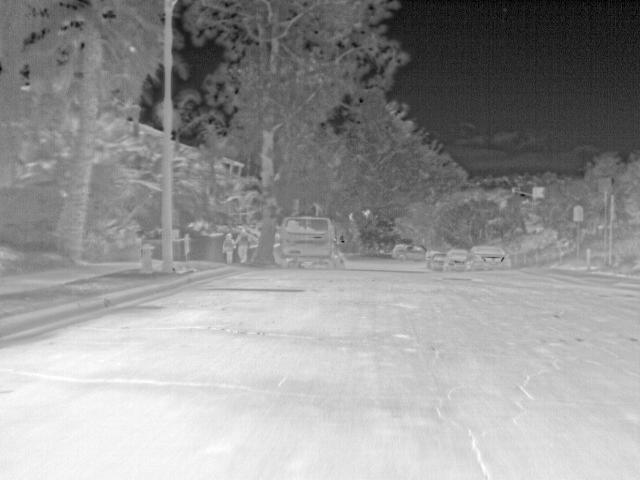car: (276, 215, 338, 268), (465, 245, 509, 272), (389, 243, 431, 262), (443, 247, 472, 273), (428, 252, 448, 271)
person: (234, 227, 253, 263), (222, 232, 238, 265)
